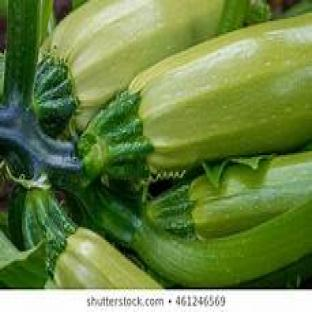Zucchini: (78, 14, 311, 177), (73, 186, 311, 287), (11, 190, 160, 289), (146, 152, 311, 240)
